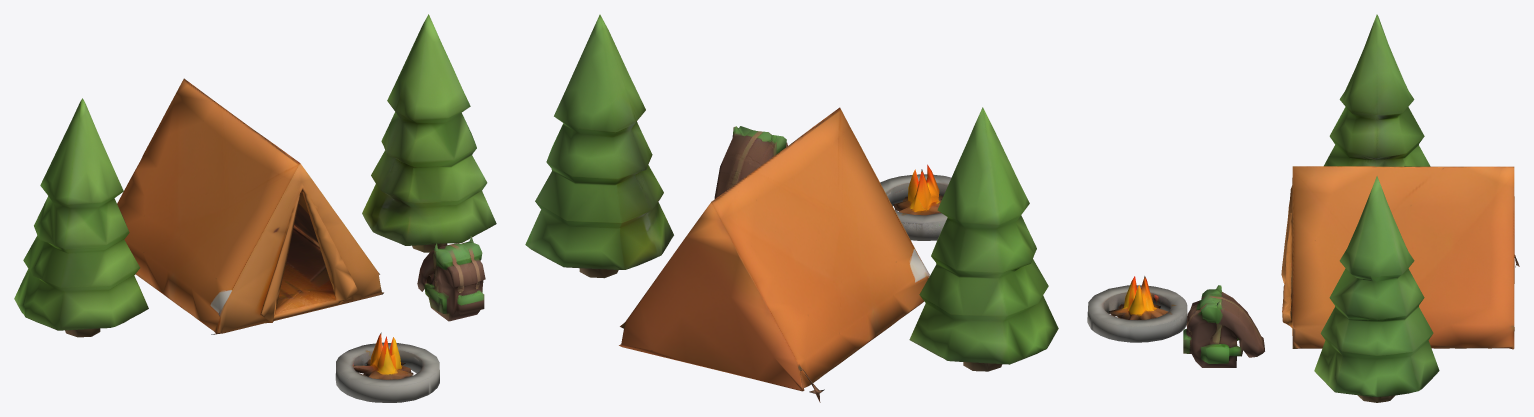
The model's file is Meshy_AI_Campfire_by_the_Pines.glb.
3 views of the same model, side by side, from view 1: azimuth 30°, elevation 25°; view 2: azimuth 150°, elevation 25°; view 3: azimuth 270°, elevation 25° (orthographic). The views are drawn at different scales.
Bounding box in the file's own units: 2 × 0.9751 × 1.7.
Materials: 1 (1 with a texture image).
